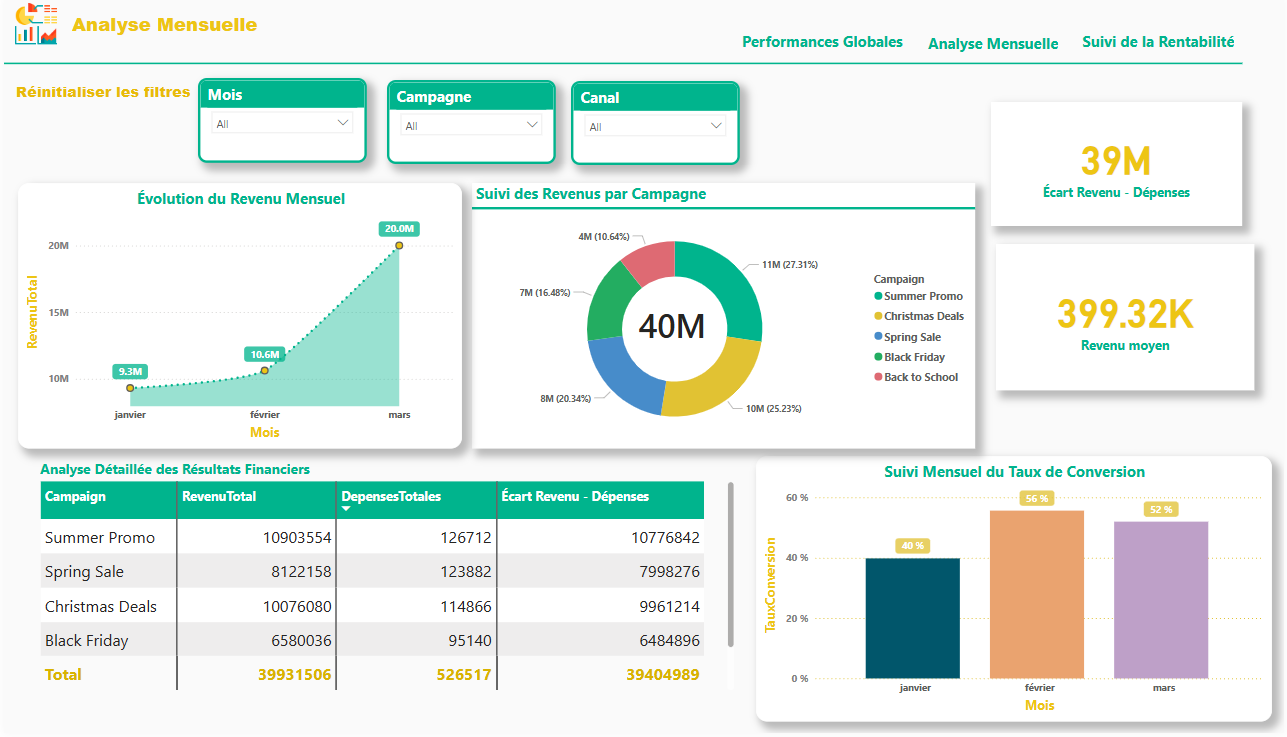

The dashboard page shown, as its layout file describes it:
{"tool":"powerbi","page":{"name":"Analyse Mensuelle","canvas":[1600,920],"ordinal":1},"visuals":[{"type":"lineStackedColumnComboChart","title":"Suivi Mensuel du Taux de Conversion","fields":{"Category":["marketing_campaigns.Date.Variation.Hiérarchie de dates.Mois"],"Y":["marketing_campaigns.TauxConversion"]},"box":[940,573.8,644.6,332.3],"z":0},{"type":"donutChart","title":"Suivi des Revenus par Campagne","fields":{"Category":["marketing_campaigns.Campaign"],"Y":["marketing_campaigns.RevenuTotal"]},"box":[584.6,232.3,629.2,332.3],"z":1000},{"type":"lineChart","title":"Évolution du Revenu Mensuel","fields":{"Category":["marketing_campaigns.Date.Variation.Hiérarchie de dates.Mois"],"Y":["marketing_campaigns.RevenuTotal"]},"box":[16.9,232.3,555.4,332.3],"z":2000},{"type":"shape","box":[0,80.2,1547.7,6.2],"z":3000},{"type":"actionButton","box":[913.8,35.4,218.5,38.5],"z":4000},{"type":"actionButton","box":[1138.5,36.9,195.4,40],"z":5000},{"type":"actionButton","box":[1327.7,35.4,230.8,40],"z":6000},{"type":"textbox","title":"Analyse Mensuelle","box":[79.6,16.9,261.8,106.2],"z":7000},{"type":"image","box":[0,0,79.6,66.4],"z":8000},{"type":"slicer","title":"Mois","fields":{"Values":["marketing_campaigns.Date.Variation.Hiérarchie de dates.Mois"]},"box":[243.1,101.5,210.8,106.2],"z":9000},{"type":"slicer","title":"Campagne","fields":{"Values":["marketing_campaigns.Campaign"]},"box":[479,103.8,211.1,105],"z":10000},{"type":"slicer","title":"Canal","fields":{"Values":["marketing_campaigns.Channel"]},"box":[708.2,105,211.1,105],"z":11000},{"type":"actionButton","box":[0,90.5,248.5,56.7],"z":12000},{"type":"card","fields":{"Values":["marketing_campaigns.Écart Revenu - Dépenses"]},"box":[1233.8,130.8,313.8,155.4],"z":13000},{"type":"card","fields":{"Values":["marketing_campaigns.Revenu moyen mensuel"]},"box":[1240,309.2,323.1,183.1],"z":14000},{"type":"tableEx","title":"Analyse Détaillée des Résultats Financiers","fields":{"Values":["marketing_campaigns.Campaign","marketing_campaigns.RevenuTotal","marketing_campaigns.DepensesTotales","marketing_campaigns.Écart Revenu - Dépenses"]},"box":[40,576.9,878.5,293.8],"z":15000},{"type":"card","fields":{"Values":["marketing_campaigns.RevenuTotal"]},"box":[773.8,356.9,123.1,103.1],"z":17000}]}

Visuals, with their boxes in screenshot pixels (x1, y1, x2, y2), scaled from the page's 1600x920 canvas onto the 1287x737 screenshot:
"Suivi Mensuel du Taux de Conversion" lineStackedColumnComboChart: x1=756, y1=460, x2=1275, y2=726
"Suivi des Revenus par Campagne" donutChart: x1=470, y1=186, x2=976, y2=452
"Évolution du Revenu Mensuel" lineChart: x1=14, y1=186, x2=460, y2=452
shape: x1=0, y1=64, x2=1245, y2=69
actionButton: x1=735, y1=28, x2=911, y2=59
actionButton: x1=916, y1=30, x2=1073, y2=62
actionButton: x1=1068, y1=28, x2=1254, y2=60
"Analyse Mensuelle" textbox: x1=64, y1=14, x2=275, y2=99
image: x1=0, y1=0, x2=64, y2=53
"Mois" slicer: x1=196, y1=81, x2=365, y2=166
"Campagne" slicer: x1=385, y1=83, x2=555, y2=167
"Canal" slicer: x1=570, y1=84, x2=739, y2=168
actionButton: x1=0, y1=72, x2=200, y2=118
card - marketing_campaigns.Écart Revenu - Dépenses: x1=992, y1=105, x2=1245, y2=229
card - marketing_campaigns.Revenu moyen mensuel: x1=997, y1=248, x2=1257, y2=394
"Analyse Détaillée des Résultats Financiers" tableEx: x1=32, y1=462, x2=739, y2=698
card - marketing_campaigns.RevenuTotal: x1=622, y1=286, x2=721, y2=368
